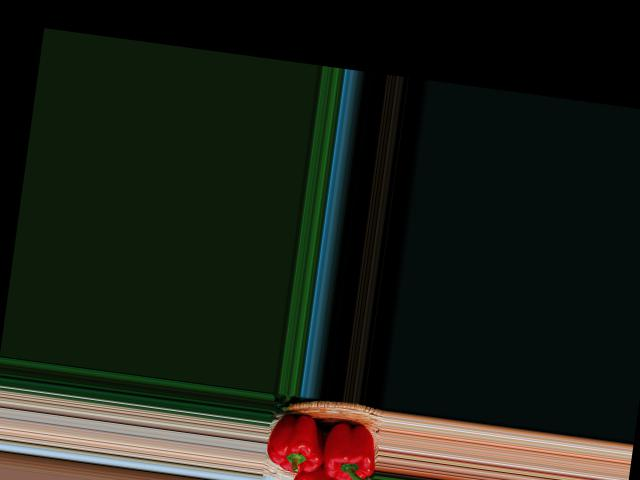bell_pepper: (312, 411, 380, 480)
